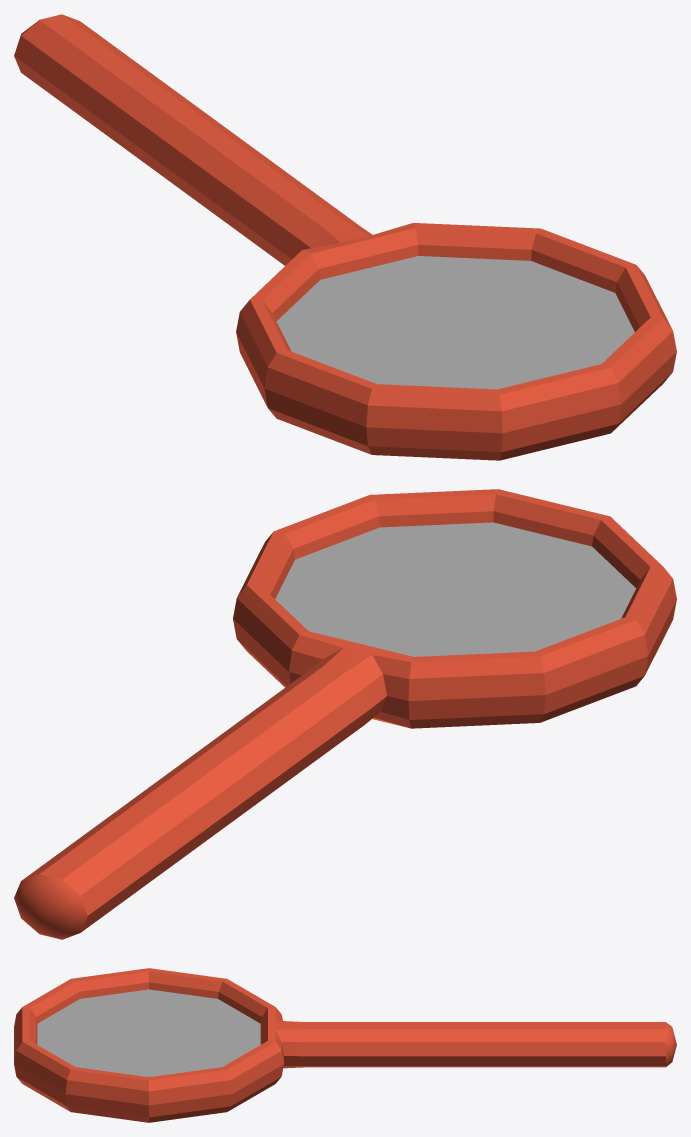
Rendered from Magnifying Glass.fbx.
The picture shows the model from 3 angles, top to bottom: view 1: azimuth 30°, elevation 25°; view 2: azimuth 150°, elevation 25°; view 3: azimuth 270°, elevation 25°; orthographic projection. The views are drawn at different scales.
Visible parts, largest first — view 1: pTorus2, pPlane3; view 2: pTorus2, pPlane3; view 3: pTorus2, pPlane3.
Boxes of the visible parts, left/top/right/bottom form: pTorus2: left=14, top=14, right=676, bottom=460; pPlane3: left=276, top=256, right=634, bottom=389; pTorus2: left=14, top=489, right=676, bottom=939; pPlane3: left=275, top=522, right=635, bottom=656; pTorus2: left=14, top=968, right=676, bottom=1122; pPlane3: left=37, top=989, right=260, bottom=1076.
Bounding box in the file's own units: 138 × 22.66 × 322.
